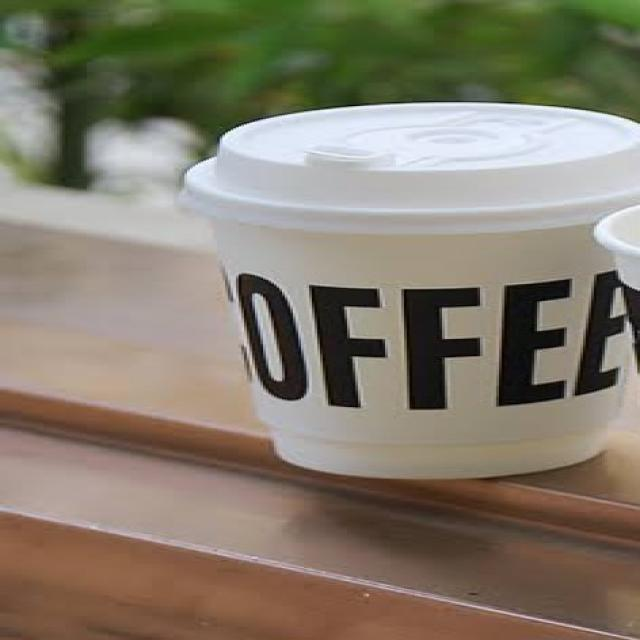plastic cup: (156, 49, 640, 471)
